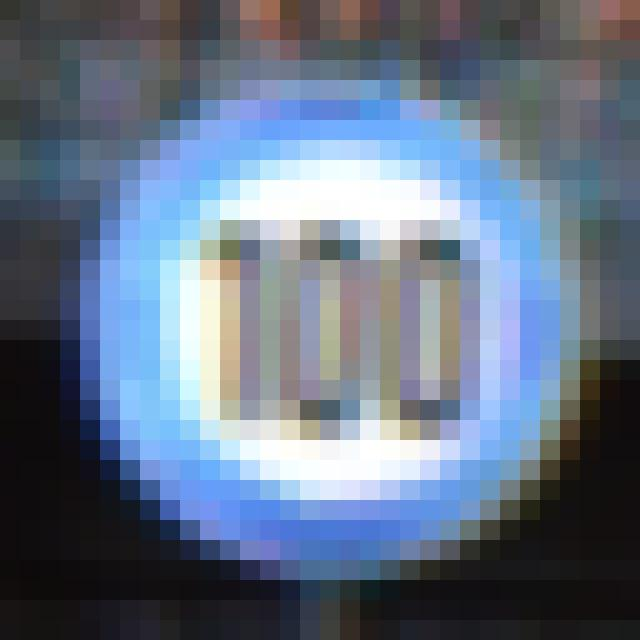SPEED LIMIT 100: (103, 105, 561, 583)
